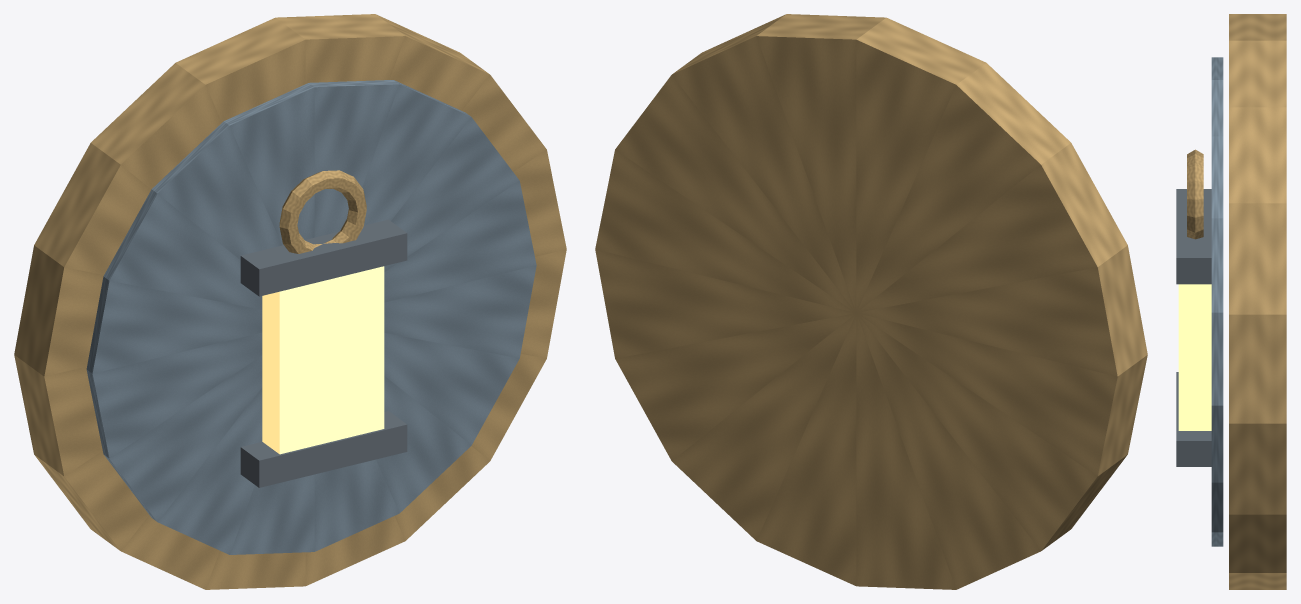
Rendered from lantern-watch-lantern-watch-token__96.glb.
3 views of the same model, side by side, from view 1: azimuth 30°, elevation 25°; view 2: azimuth 150°, elevation 25°; view 3: azimuth 270°, elevation 25° (orthographic). The views are drawn at different scales.
Parts seen in each view (by area): view 1: lantern-watch-watch-token; view 2: lantern-watch-watch-token; view 3: lantern-watch-watch-token.
Boxes of the visible parts, box(x1,y1,x2,y2) form: lantern-watch-watch-token: box(14, 14, 566, 589); lantern-watch-watch-token: box(595, 14, 1147, 589); lantern-watch-watch-token: box(1176, 14, 1286, 589).
Size of the model in its own units: 0.6 by 0.6 by 0.115.
4 materials, 2 textured.
